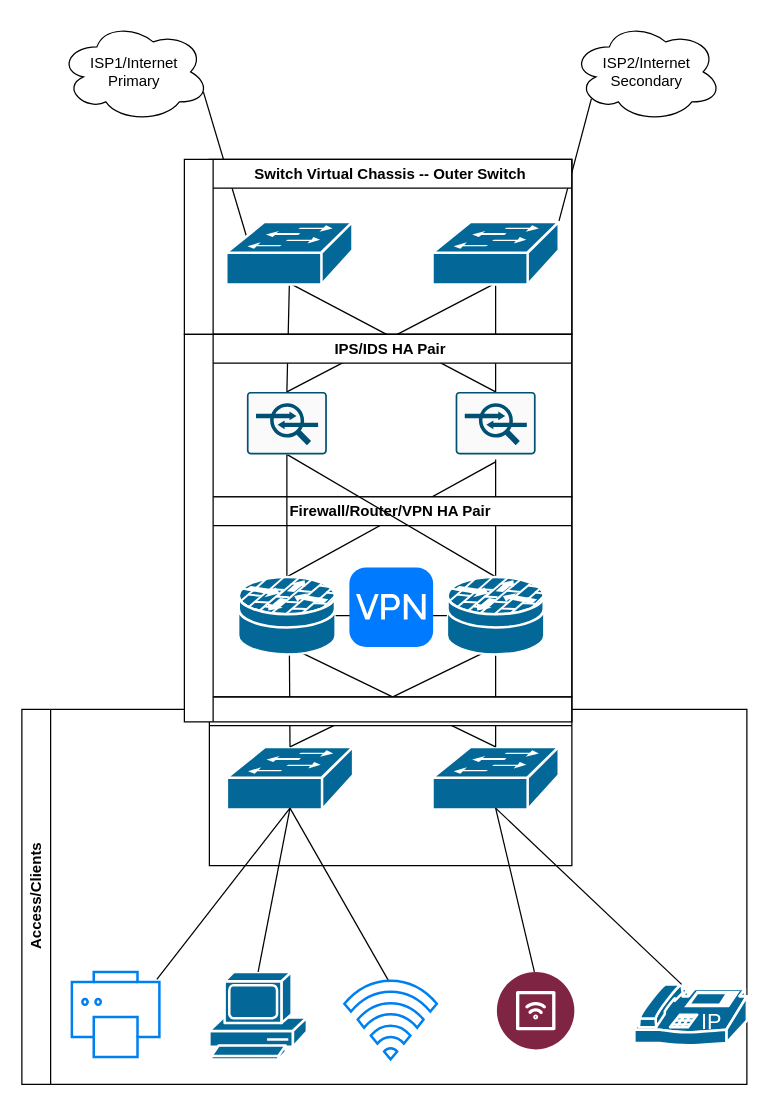
The diagram is 770 pixels wide and 1106 high, and some of its shapes have lost their labels. Here are the shapes that lost their labels. From the top down, the centre of each, then its label:
(x=377, y=246): Demarcation
(x=377, y=527): Core/Distribution
(x=390, y=781): Switch Virtual Chassis -- Inner Switches
